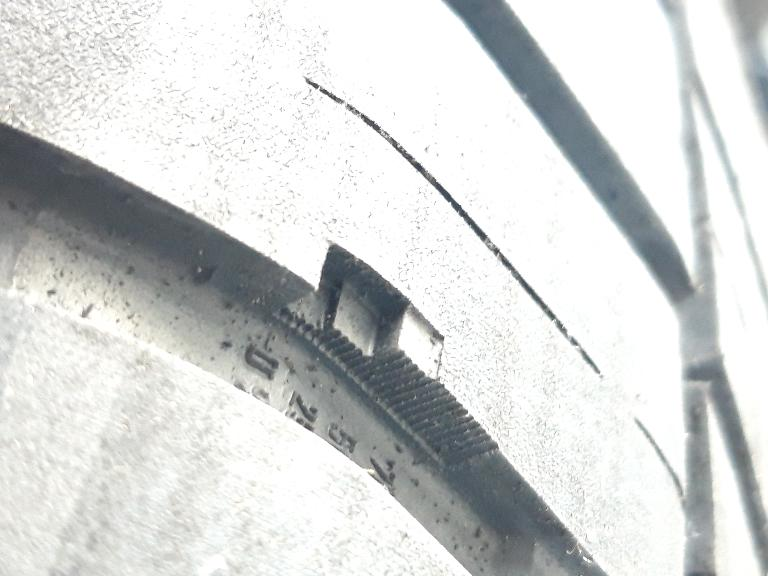temoin:50: (266, 231, 451, 428)
